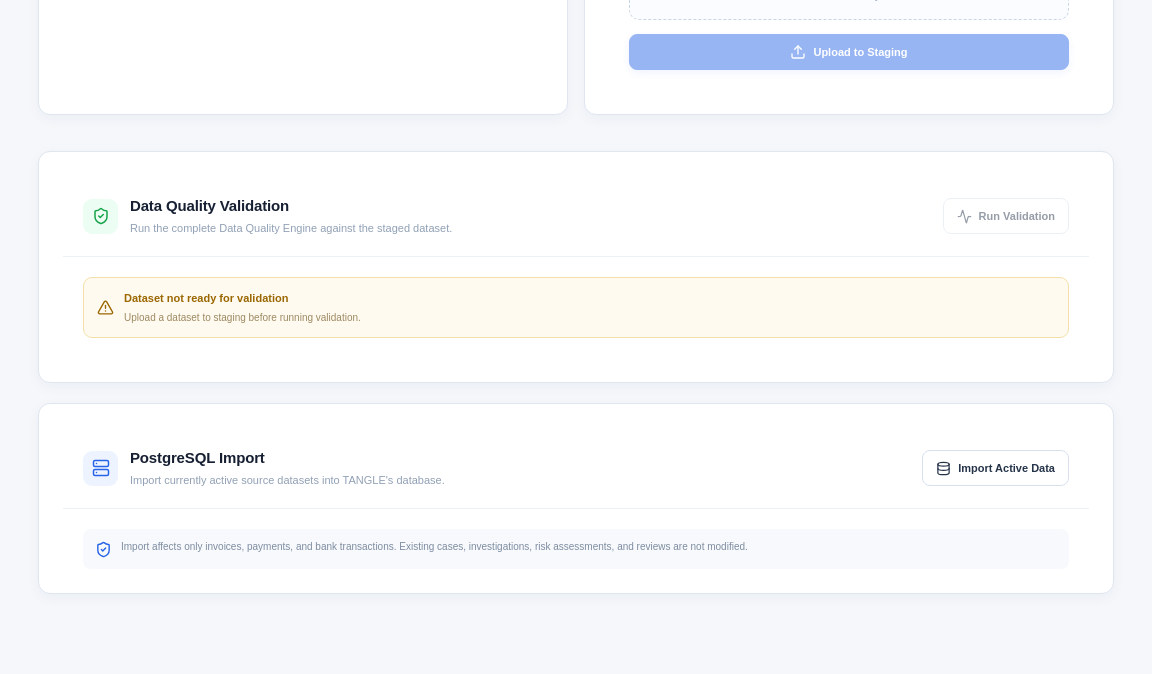
Test: DataIngestion › imports active datasets into PostgreSQL and displays import summary
(page scrolled)
Click the button "Import Active Data". click: (996, 468)
box: [922,450,1069,486]
(page scrolled)
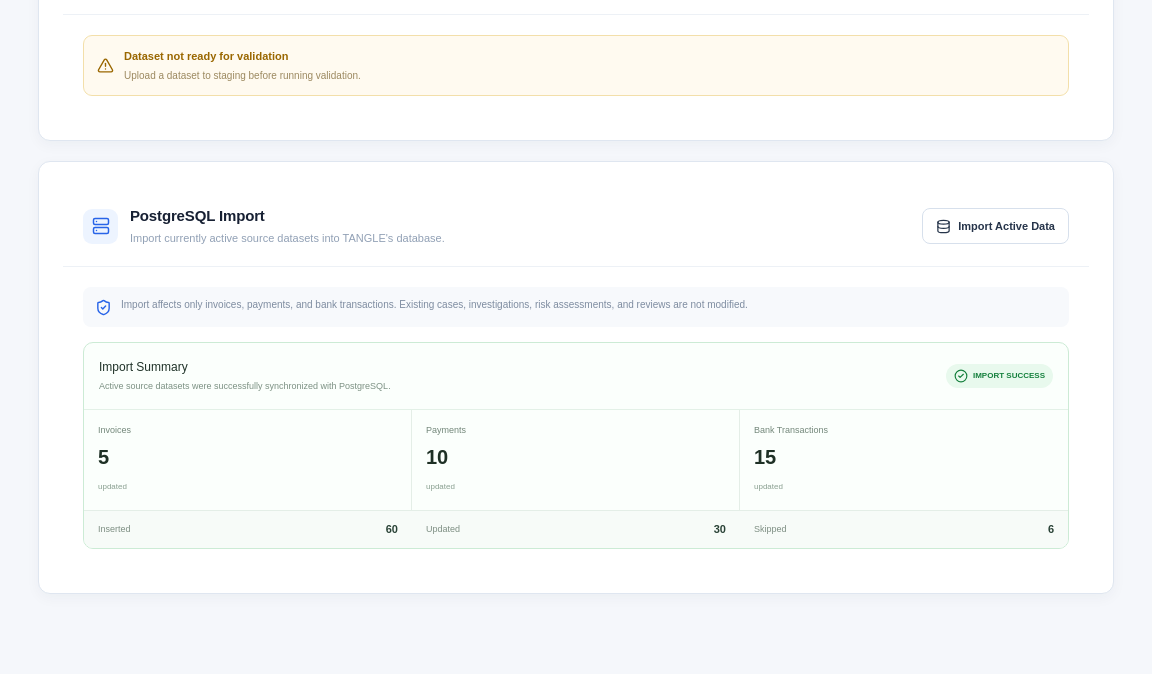
Check: the heading "Import Summary" is shown, box [99,360,188,374]
Check: the text "IMPORT SUCCESS" is shown, box [946,364,1053,388]
